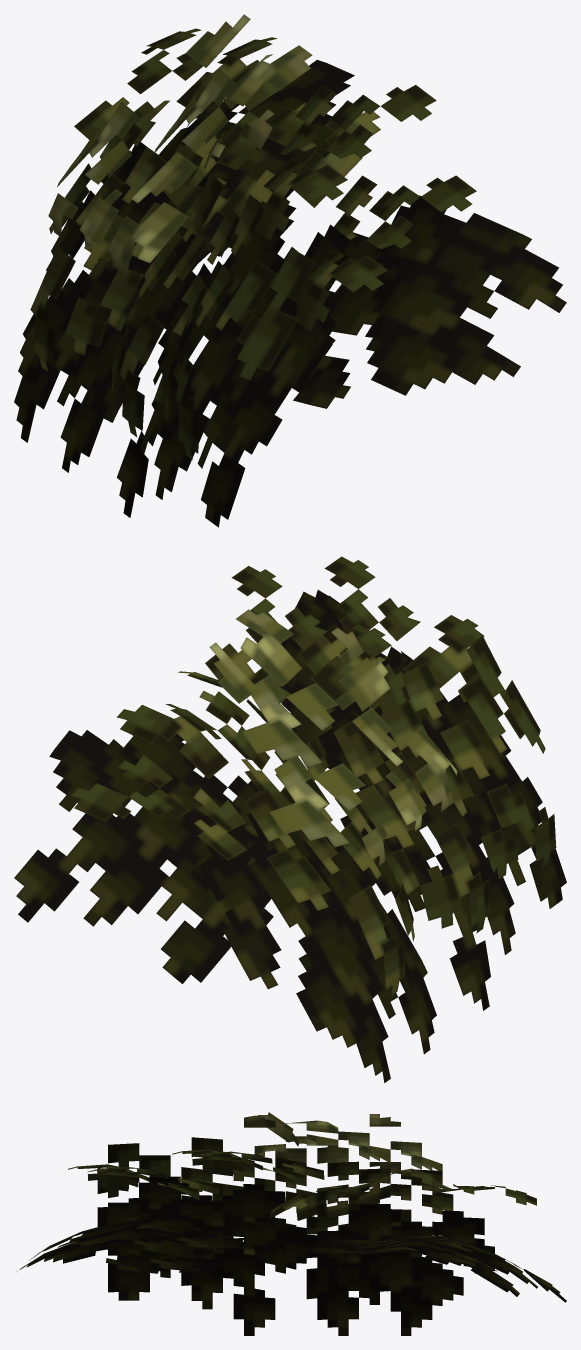
Rendered from EnvFldMD_Grass_J_L.FBX.
3 renders of one model, top to bottom at view 1: azimuth 30°, elevation 25°; view 2: azimuth 150°, elevation 25°; view 3: azimuth 270°, elevation 25°, orthographic. The views are drawn at different scales.
Parts seen in each view (by area): view 1: EnvFldMD_Grass_J_L; view 2: EnvFldMD_Grass_J_L; view 3: EnvFldMD_Grass_J_L.
Boxes of the visible parts, x1,y1,x2,y2 form: EnvFldMD_Grass_J_L: [14, 14, 566, 527]; EnvFldMD_Grass_J_L: [14, 556, 566, 1083]; EnvFldMD_Grass_J_L: [19, 1112, 566, 1335].
Bounding box in the file's own units: 140 × 157 × 264.
Materials: 1 (1 with a texture image).
